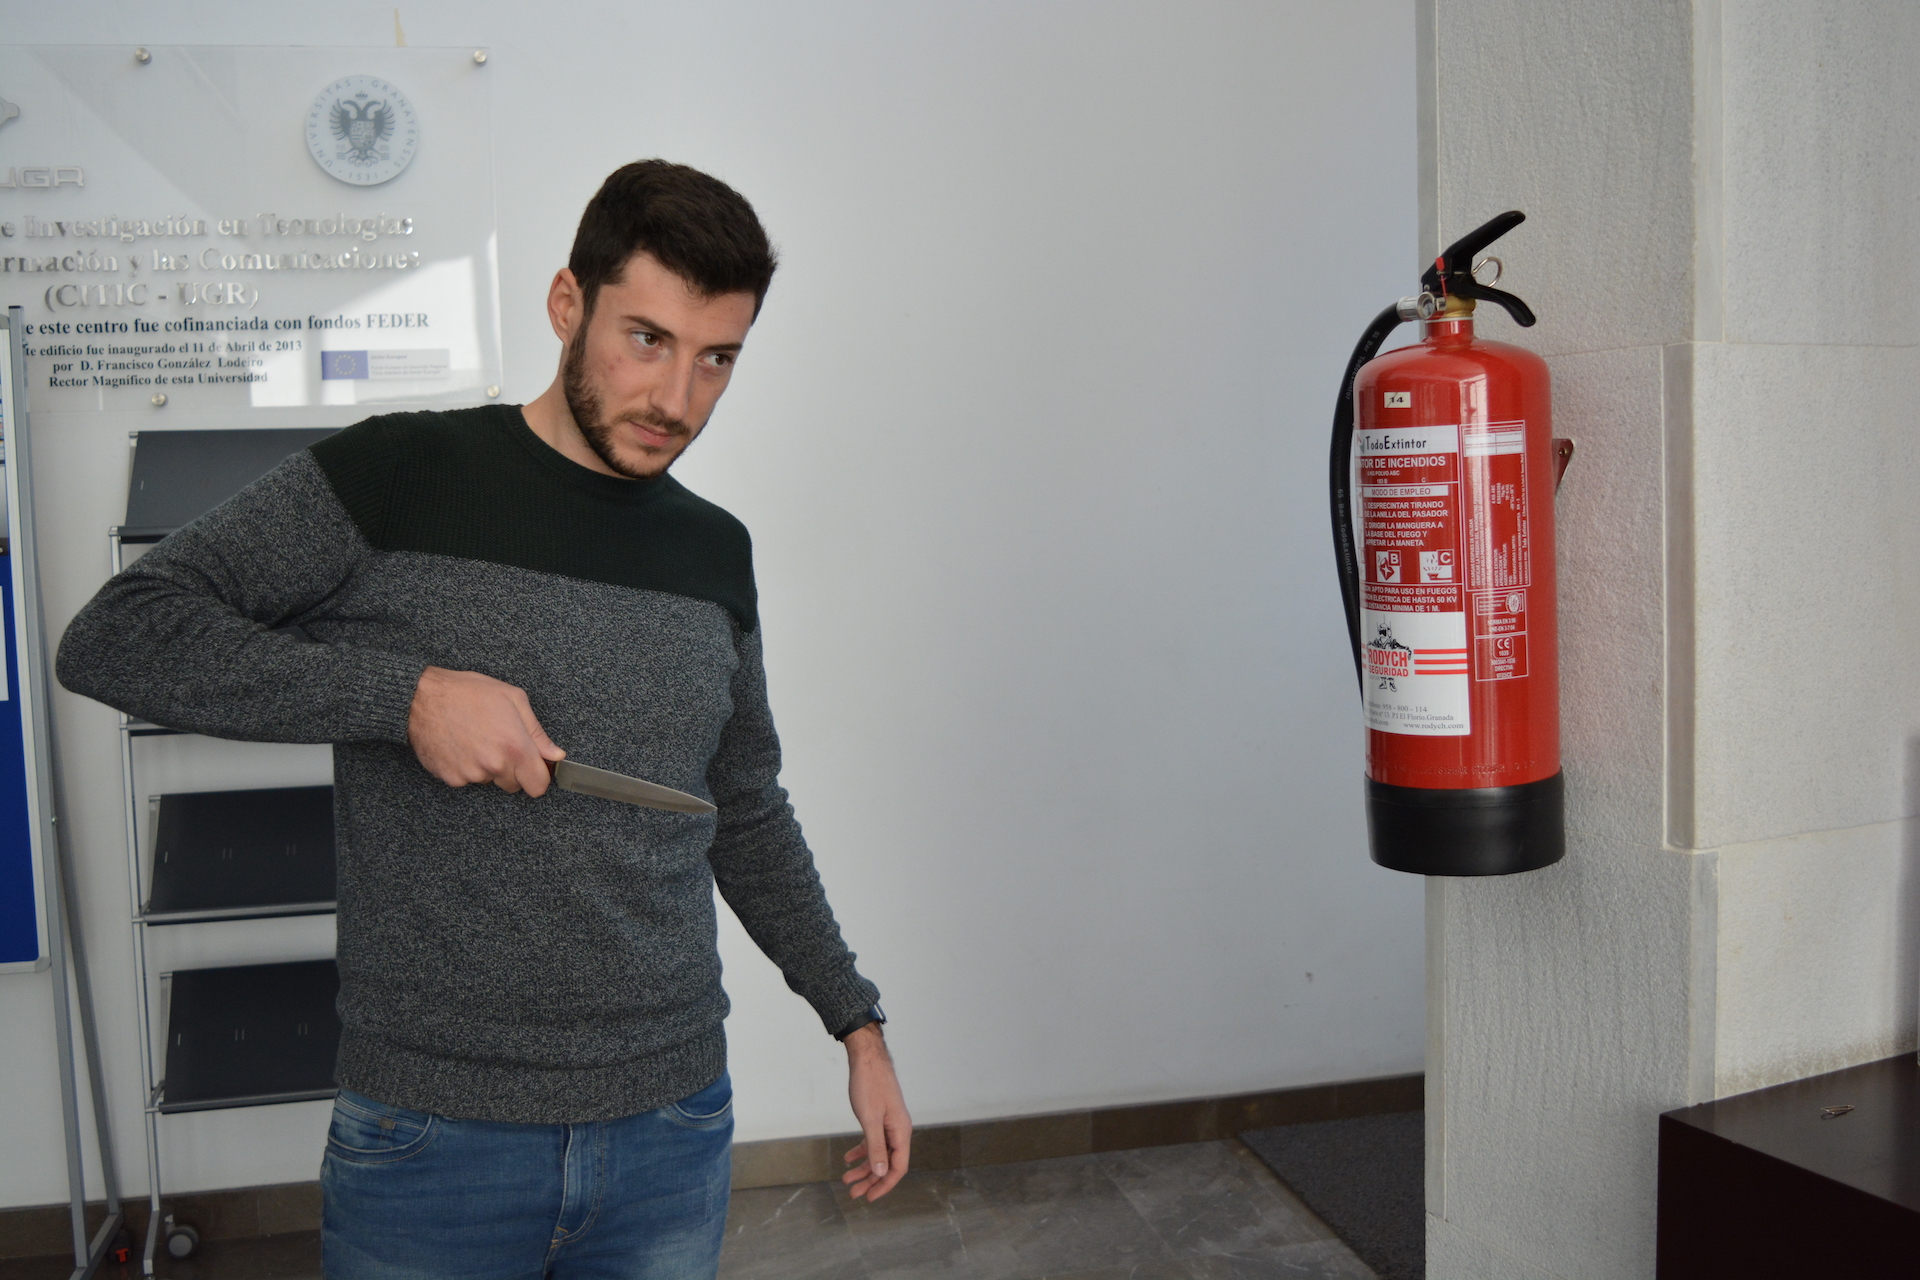knife: (514, 731, 730, 826)
